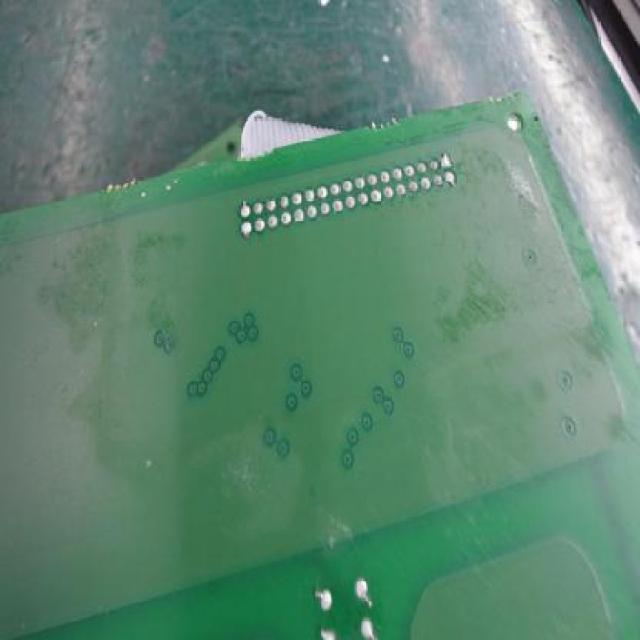Soldering shorted: (355, 576, 373, 609), (315, 587, 333, 613), (234, 200, 252, 218), (238, 222, 252, 240), (439, 150, 452, 167), (444, 172, 458, 185)
